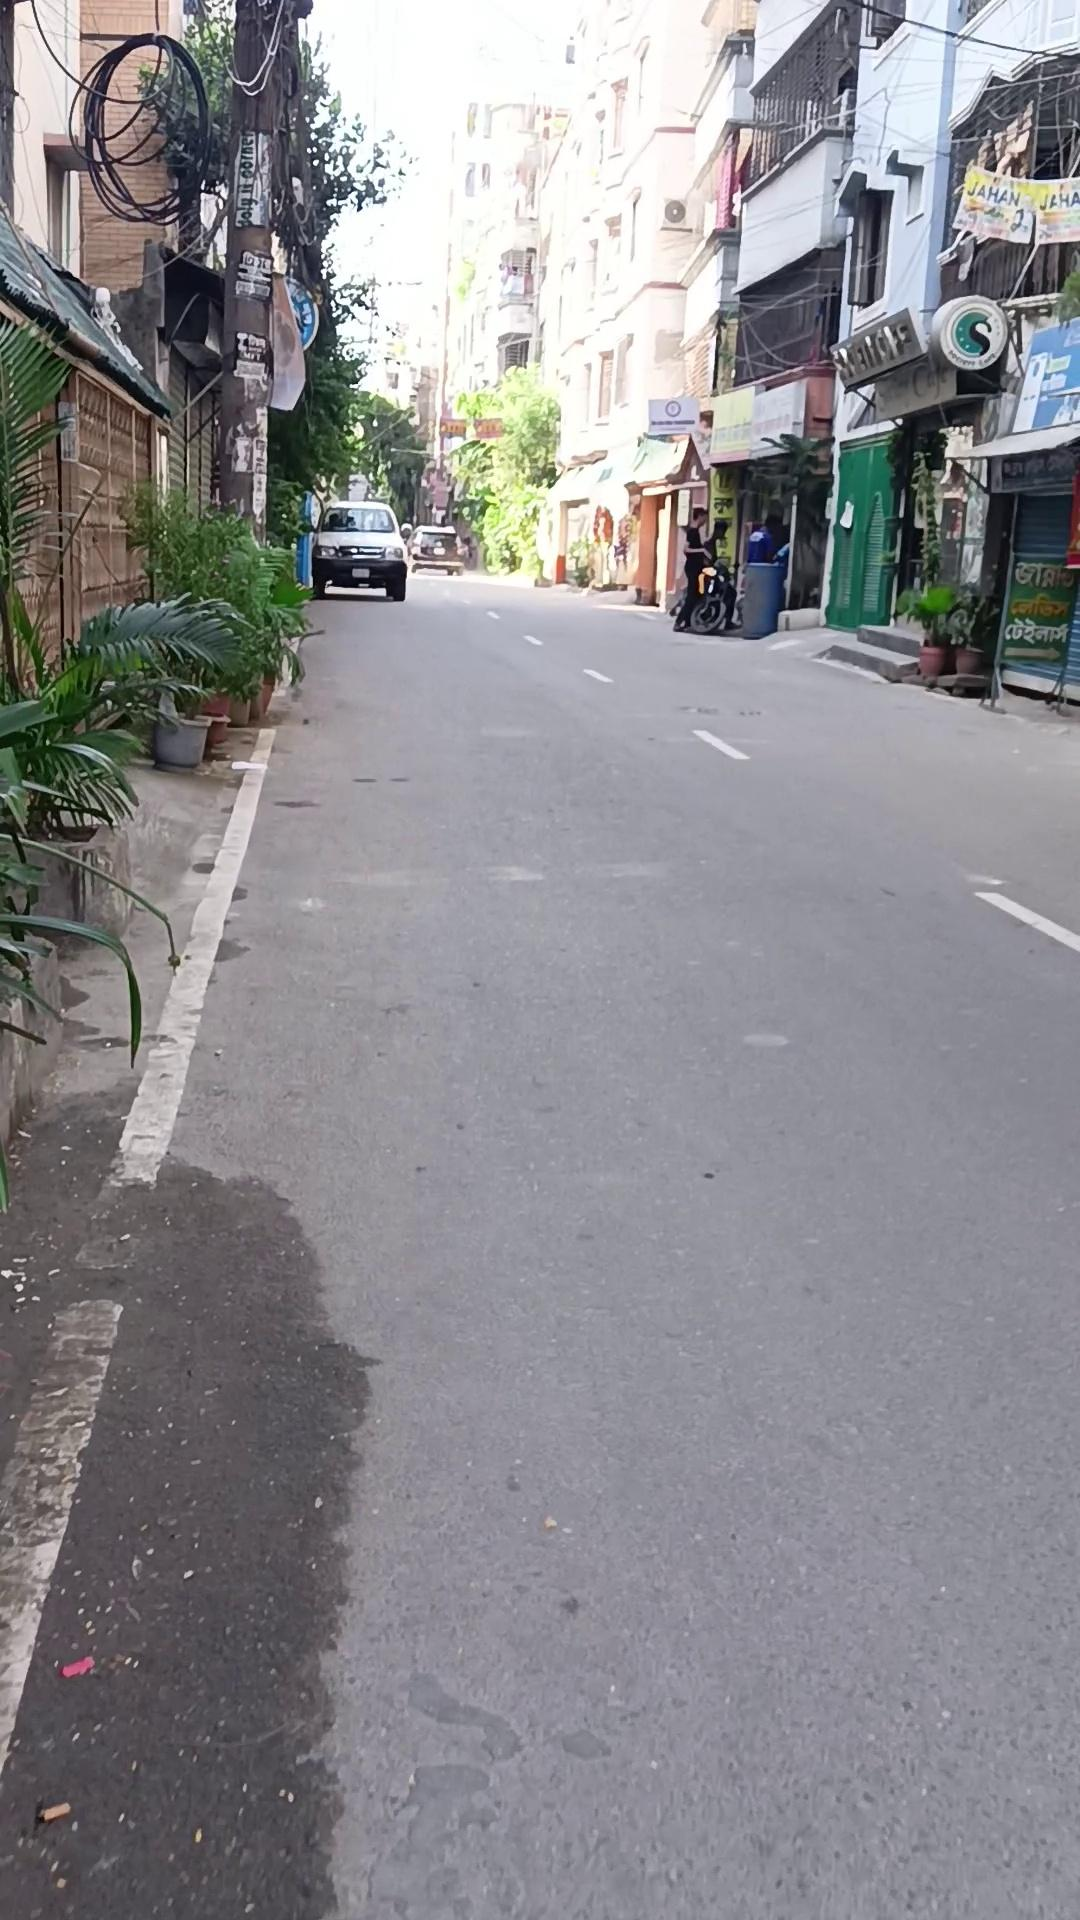Bollard: (309, 499, 409, 601), (407, 524, 465, 575)
Cat: (738, 559, 786, 638), (293, 530, 313, 587)
Construction-barrier: (679, 548, 738, 634)
Dog: (211, 1, 311, 550)
Fallen-tree: (892, 583, 955, 675), (947, 590, 1000, 674)
Light-pole: (0, 350, 241, 1105), (138, 3, 413, 551), (116, 473, 322, 729), (447, 361, 561, 578)
